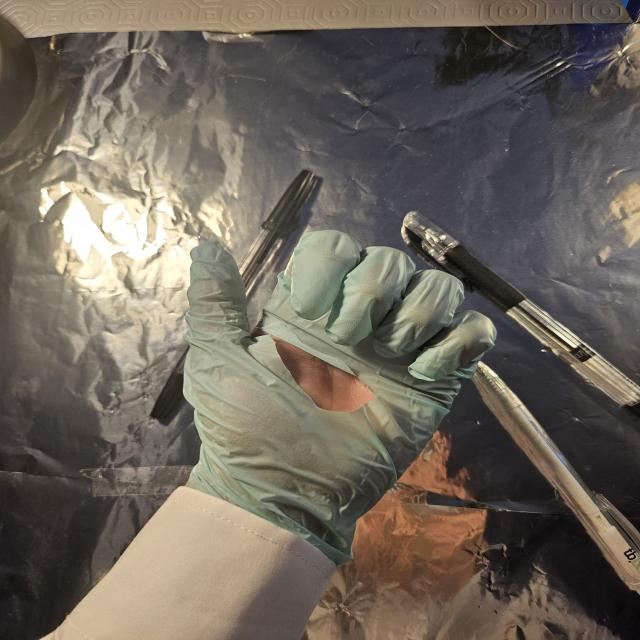gloves_damaged: (176, 224, 495, 562)
